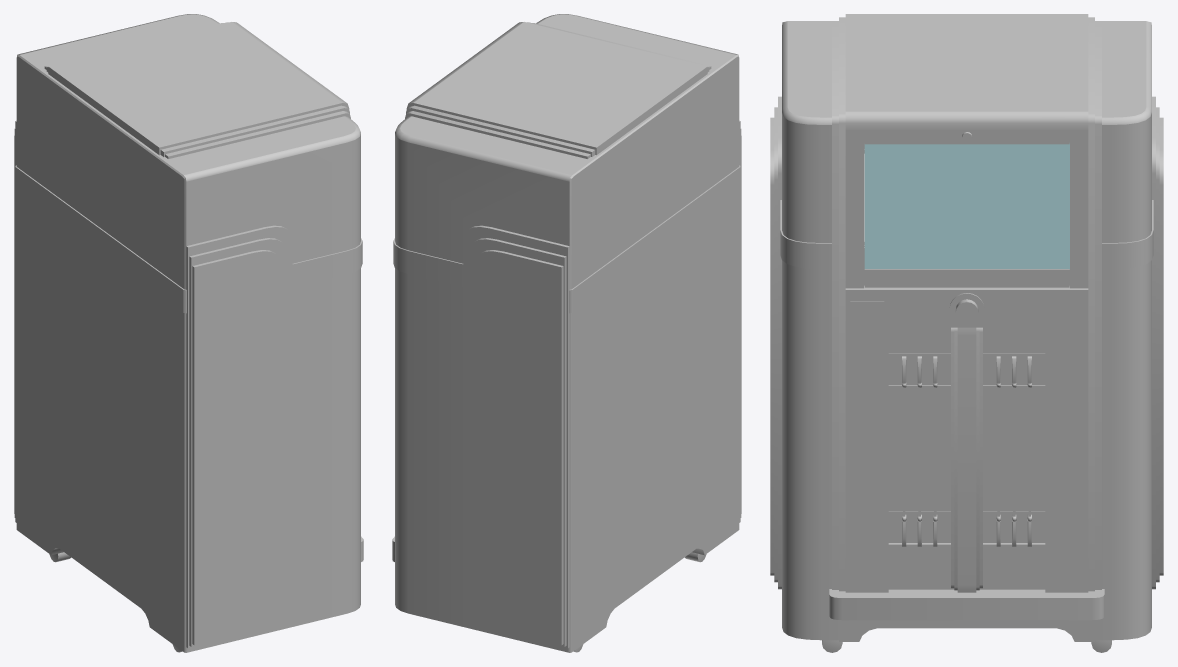
Rendered from SM_Jukebox_01a.fbx.
3 renders of one model, left to right at view 1: azimuth 30°, elevation 25°; view 2: azimuth 150°, elevation 25°; view 3: azimuth 270°, elevation 25°, orthographic. The views are drawn at different scales.
Parts seen in each view (by area): view 1: SM_Jukebox_01a; view 2: SM_Jukebox_01a; view 3: SM_Jukebox_01a.
Boxes of the visible parts, x1,y1,x2,y2 form: SM_Jukebox_01a: [14, 14, 363, 652]; SM_Jukebox_01a: [392, 14, 741, 652]; SM_Jukebox_01a: [770, 14, 1163, 652].
Size of the model in its own units: 57.54 by 135 by 87.58.
